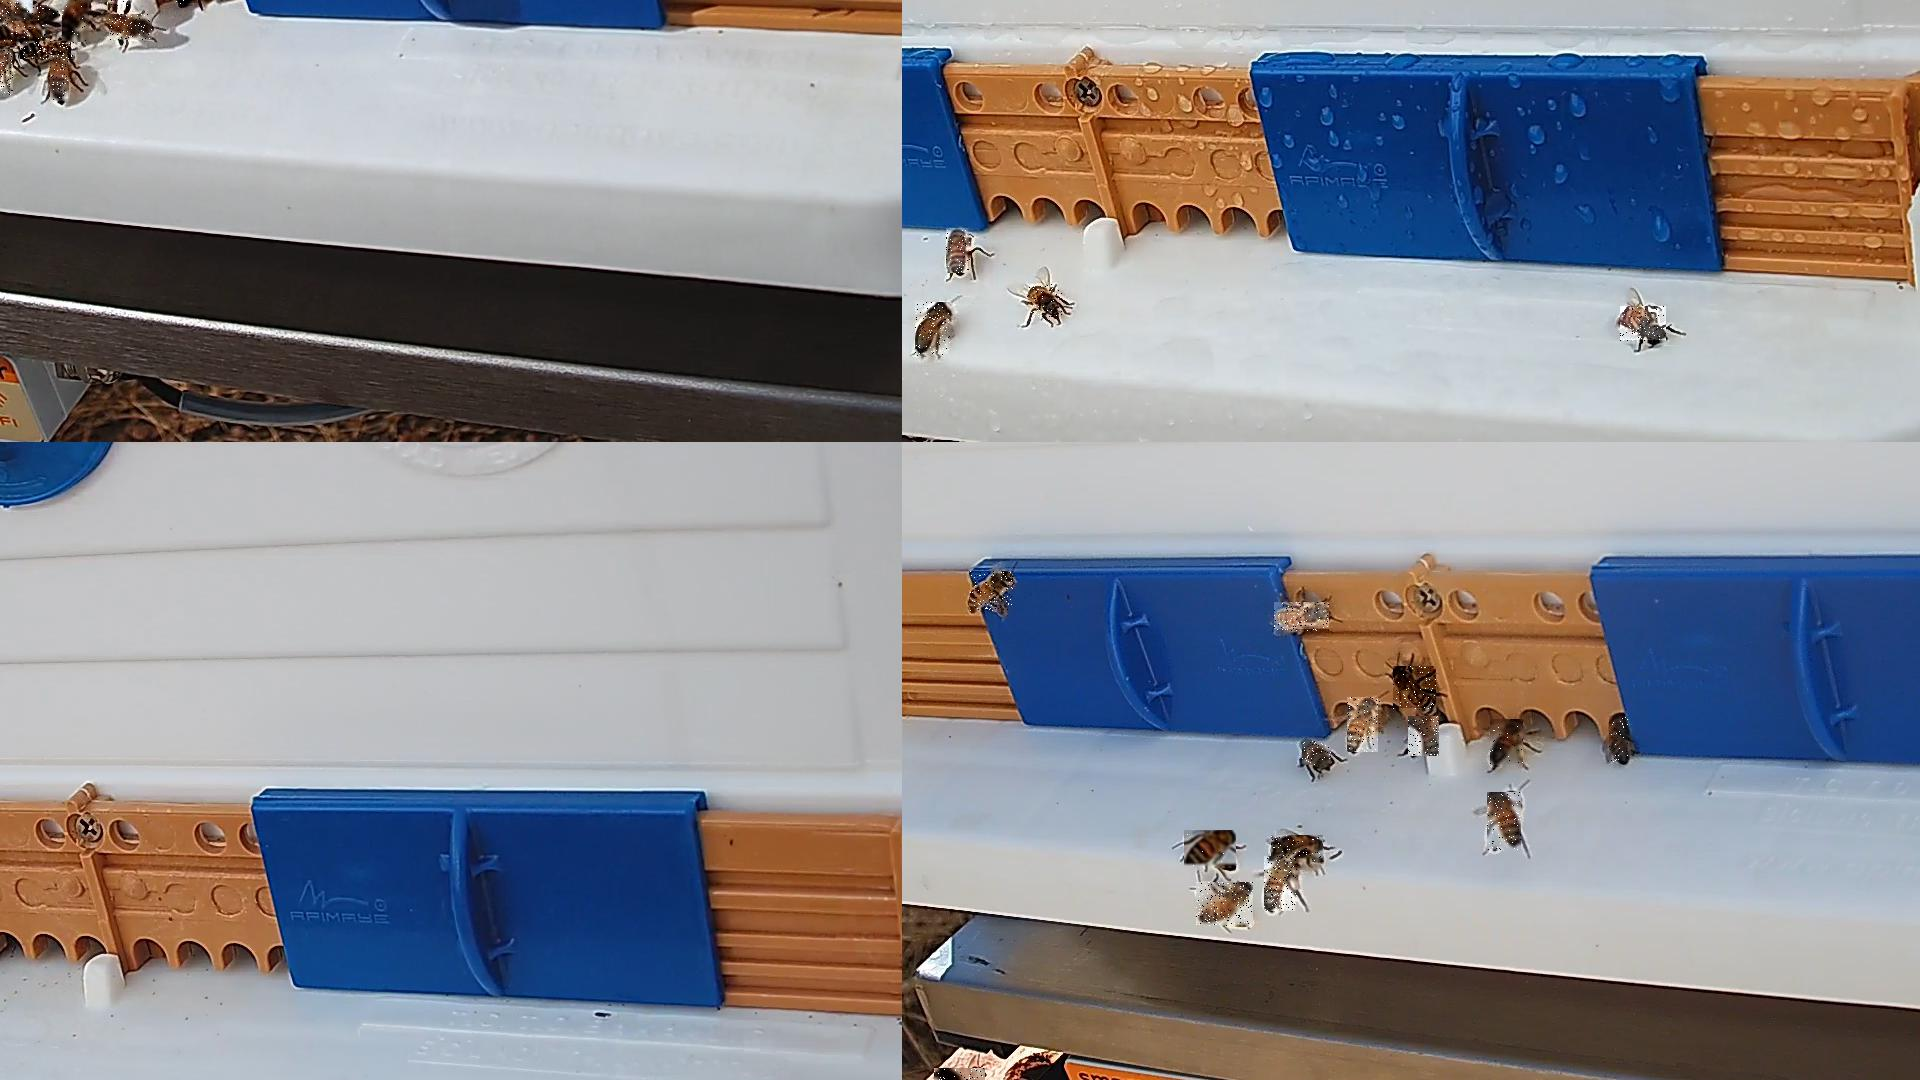bee: (1196, 884, 1254, 928), (1487, 793, 1522, 852), (1184, 831, 1237, 869), (1394, 667, 1437, 712), (1265, 856, 1299, 913), (916, 303, 952, 357), (969, 571, 1014, 613), (1274, 603, 1331, 633), (1621, 307, 1667, 344), (1490, 720, 1524, 767), (1271, 836, 1324, 862), (0, 21, 50, 47), (62, 0, 92, 44), (1408, 716, 1440, 757), (1027, 284, 1063, 318), (947, 228, 972, 274), (109, 15, 153, 41), (21, 41, 75, 61), (0, 0, 36, 28), (1609, 716, 1629, 764), (12, 5, 61, 24), (50, 55, 69, 104), (1302, 741, 1332, 766), (0, 49, 15, 98), (934, 1067, 986, 1079), (107, 0, 133, 8)
pollenbee: (1348, 698, 1382, 753)
